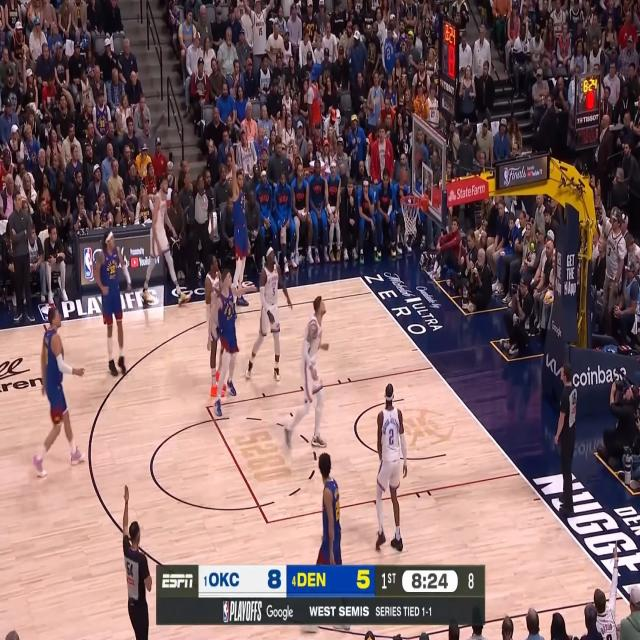ball: (399, 166, 407, 184)
number: (389, 428, 394, 445), (109, 264, 116, 274), (272, 287, 276, 296)
player: (299, 453, 352, 635), (32, 307, 86, 479), (206, 269, 257, 417), (282, 294, 330, 448), (244, 246, 294, 383), (143, 175, 190, 308), (375, 382, 408, 553), (94, 228, 132, 376), (204, 252, 230, 400), (229, 146, 250, 306)
referee: (121, 481, 153, 640), (185, 158, 214, 290), (554, 362, 578, 518)
rim: (400, 194, 420, 207)
